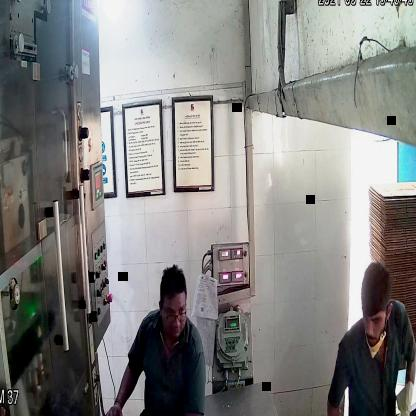goggles: (156, 300, 188, 326)
